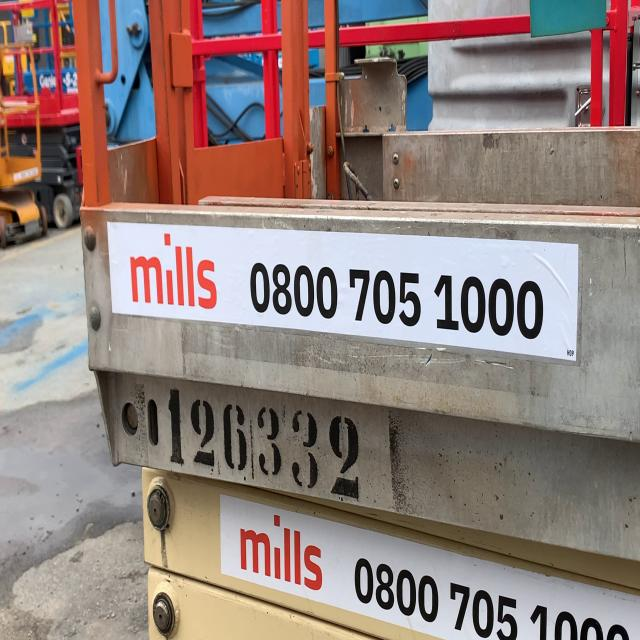Adesivo Longo: (105, 217, 581, 365)
